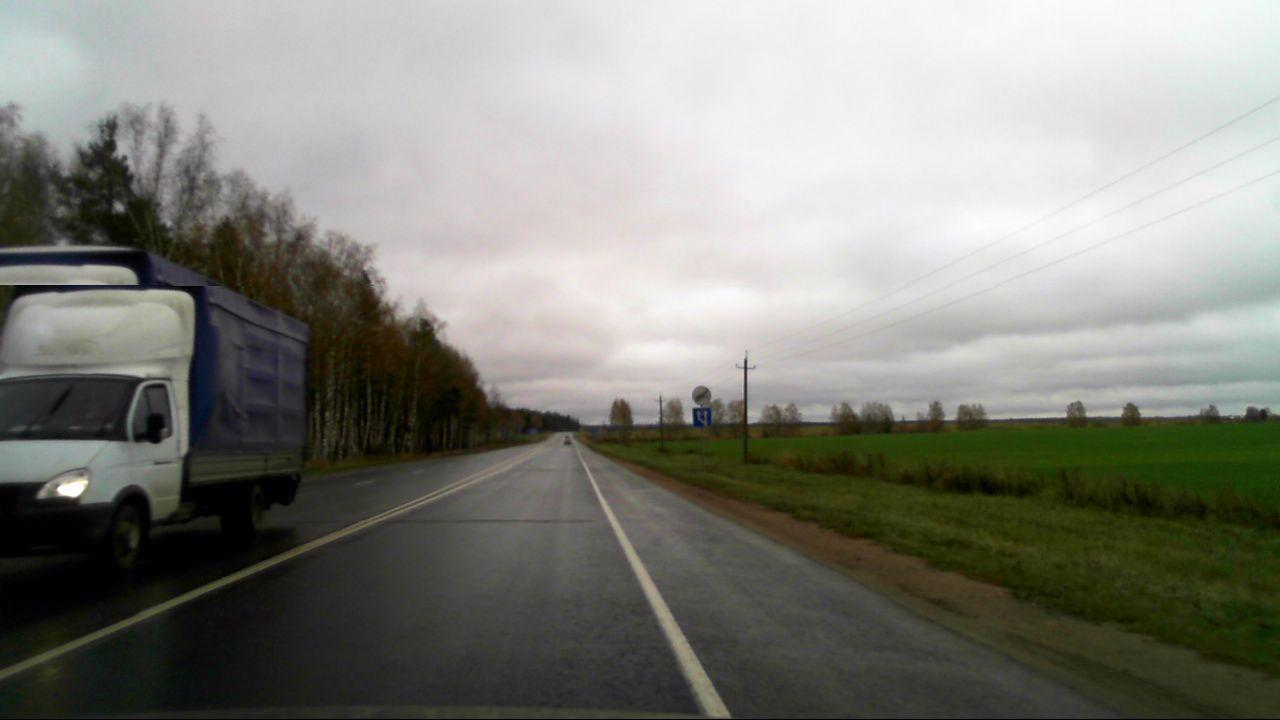3_21: (690, 384, 711, 406)
5_15_4: (691, 406, 713, 429)
